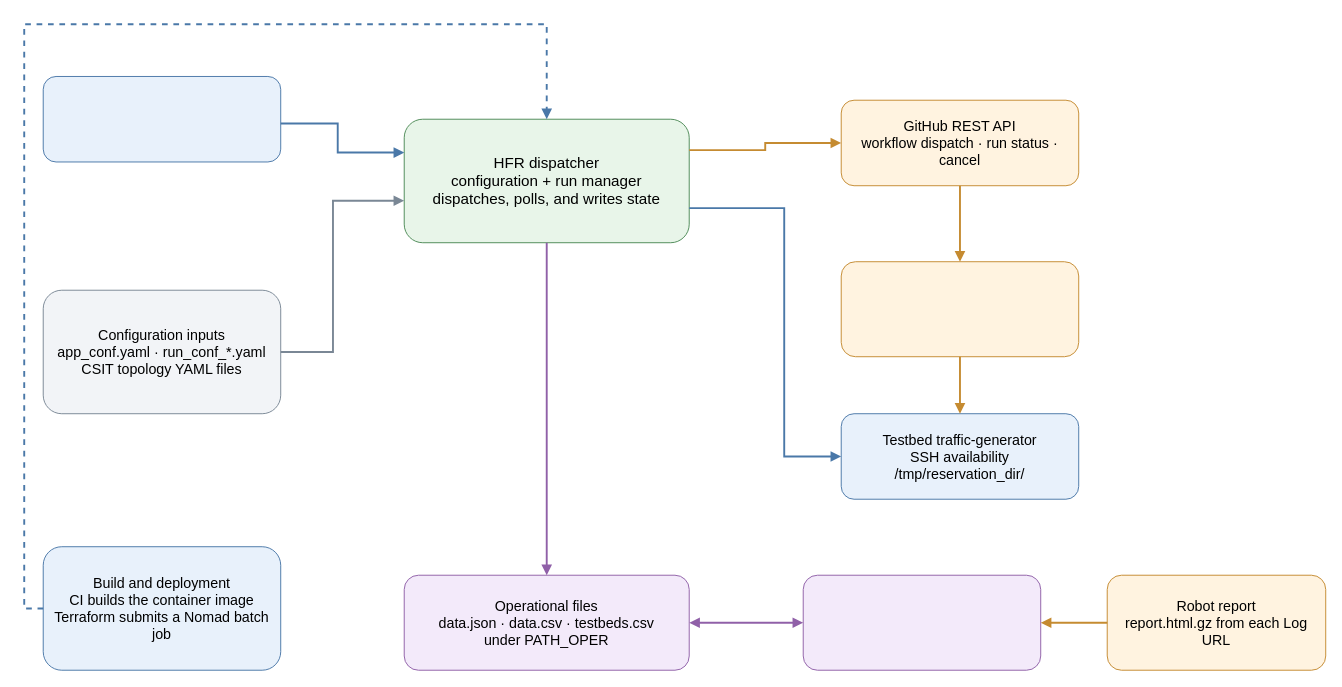
This 1342x687 diagram has some shape labels left out. The centre of each missing label's shape, as x and y in pixels:
"GitHub Actions workflow runs the configured CSIT job" goes at point 959,309.
"Operator starts the dispatcher" goes at point 161,119.
"process_reports.py enriches data.csv with report stats" goes at point 921,622.
